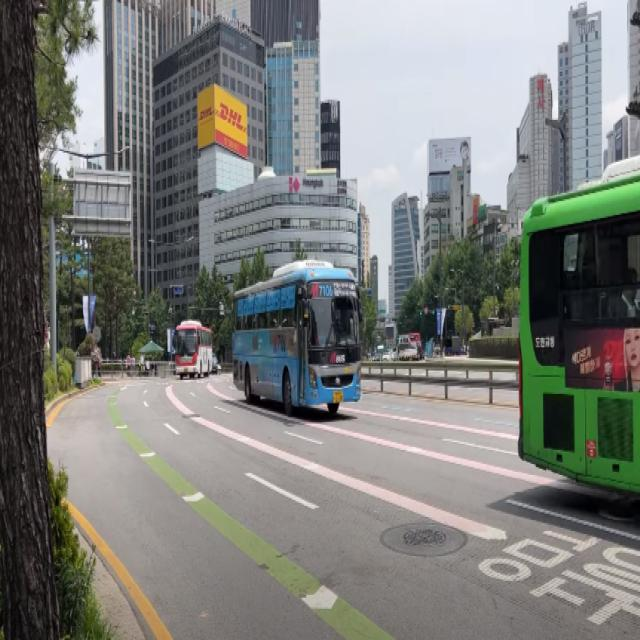bus-number: (318, 284, 332, 298)
